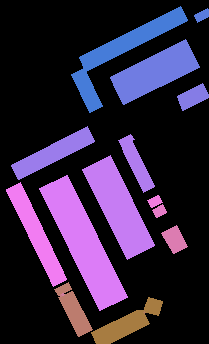parkingspot: (52, 175, 127, 304), (39, 182, 112, 310), (79, 6, 187, 71), (82, 162, 140, 259), (96, 155, 154, 252), (6, 182, 63, 280), (11, 126, 94, 179), (110, 39, 192, 91), (116, 53, 199, 104), (91, 310, 149, 344), (122, 142, 154, 192), (58, 291, 92, 336), (71, 68, 102, 112), (177, 83, 209, 110), (161, 225, 187, 253), (143, 297, 162, 315), (50, 272, 66, 286), (54, 282, 71, 295), (194, 8, 209, 22), (118, 134, 134, 147), (152, 204, 166, 217), (147, 195, 162, 207)
